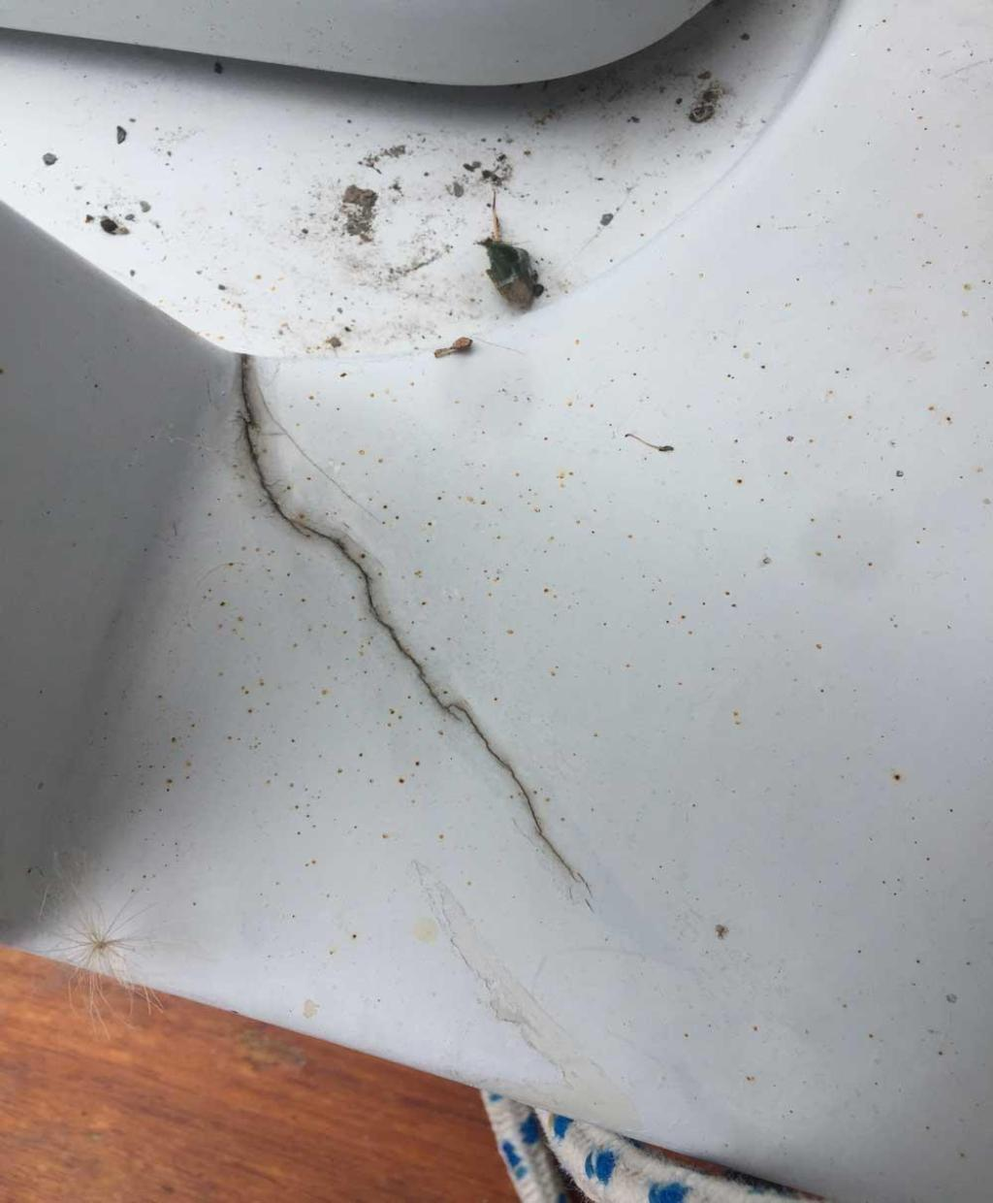crack: (232, 350, 590, 895)
